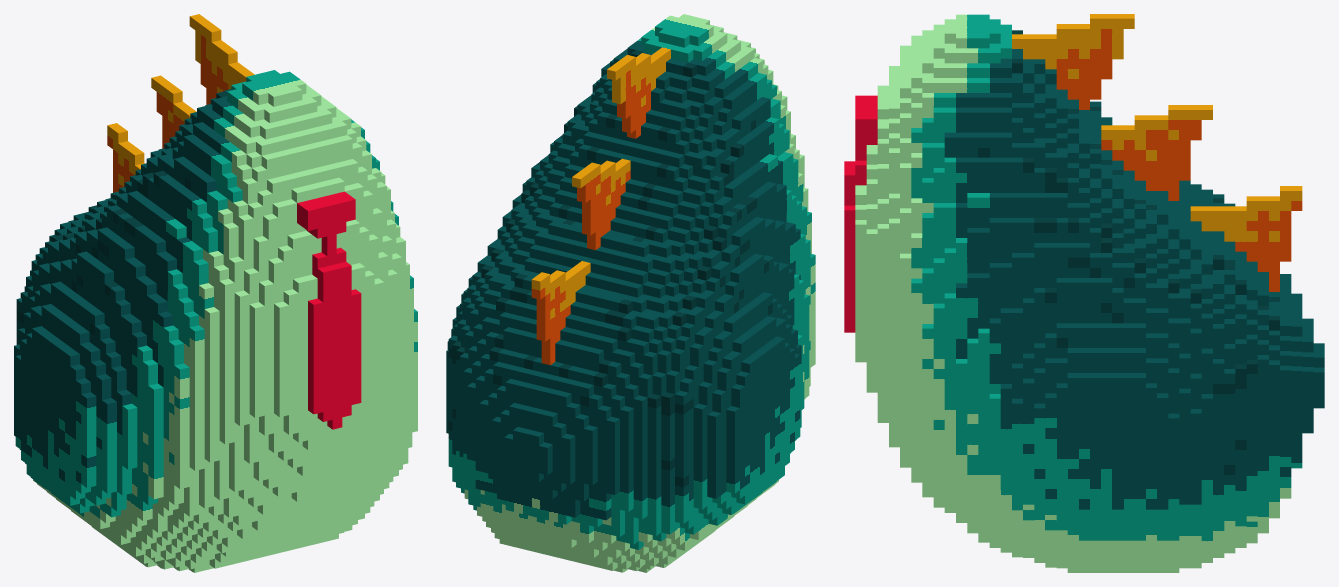
Rendered from red tie.gltf.
3 renders of one model, left to right at view 1: azimuth 30°, elevation 25°; view 2: azimuth 150°, elevation 25°; view 3: azimuth 270°, elevation 25°, orthographic. The views are drawn at different scales.
Visible parts, largest first — view 1: 04_Body_RedTie-Mesh; view 2: 04_Body_RedTie-Mesh; view 3: 04_Body_RedTie-Mesh.
Boxes of the visible parts, box(x1,y1,x2,y2) form: 04_Body_RedTie-Mesh: box(14, 14, 417, 572); 04_Body_RedTie-Mesh: box(446, 14, 815, 572); 04_Body_RedTie-Mesh: box(844, 14, 1324, 572).
Size of the model in its own units: 33 by 51 by 43.
Materials: 1 (1 with a texture image).
